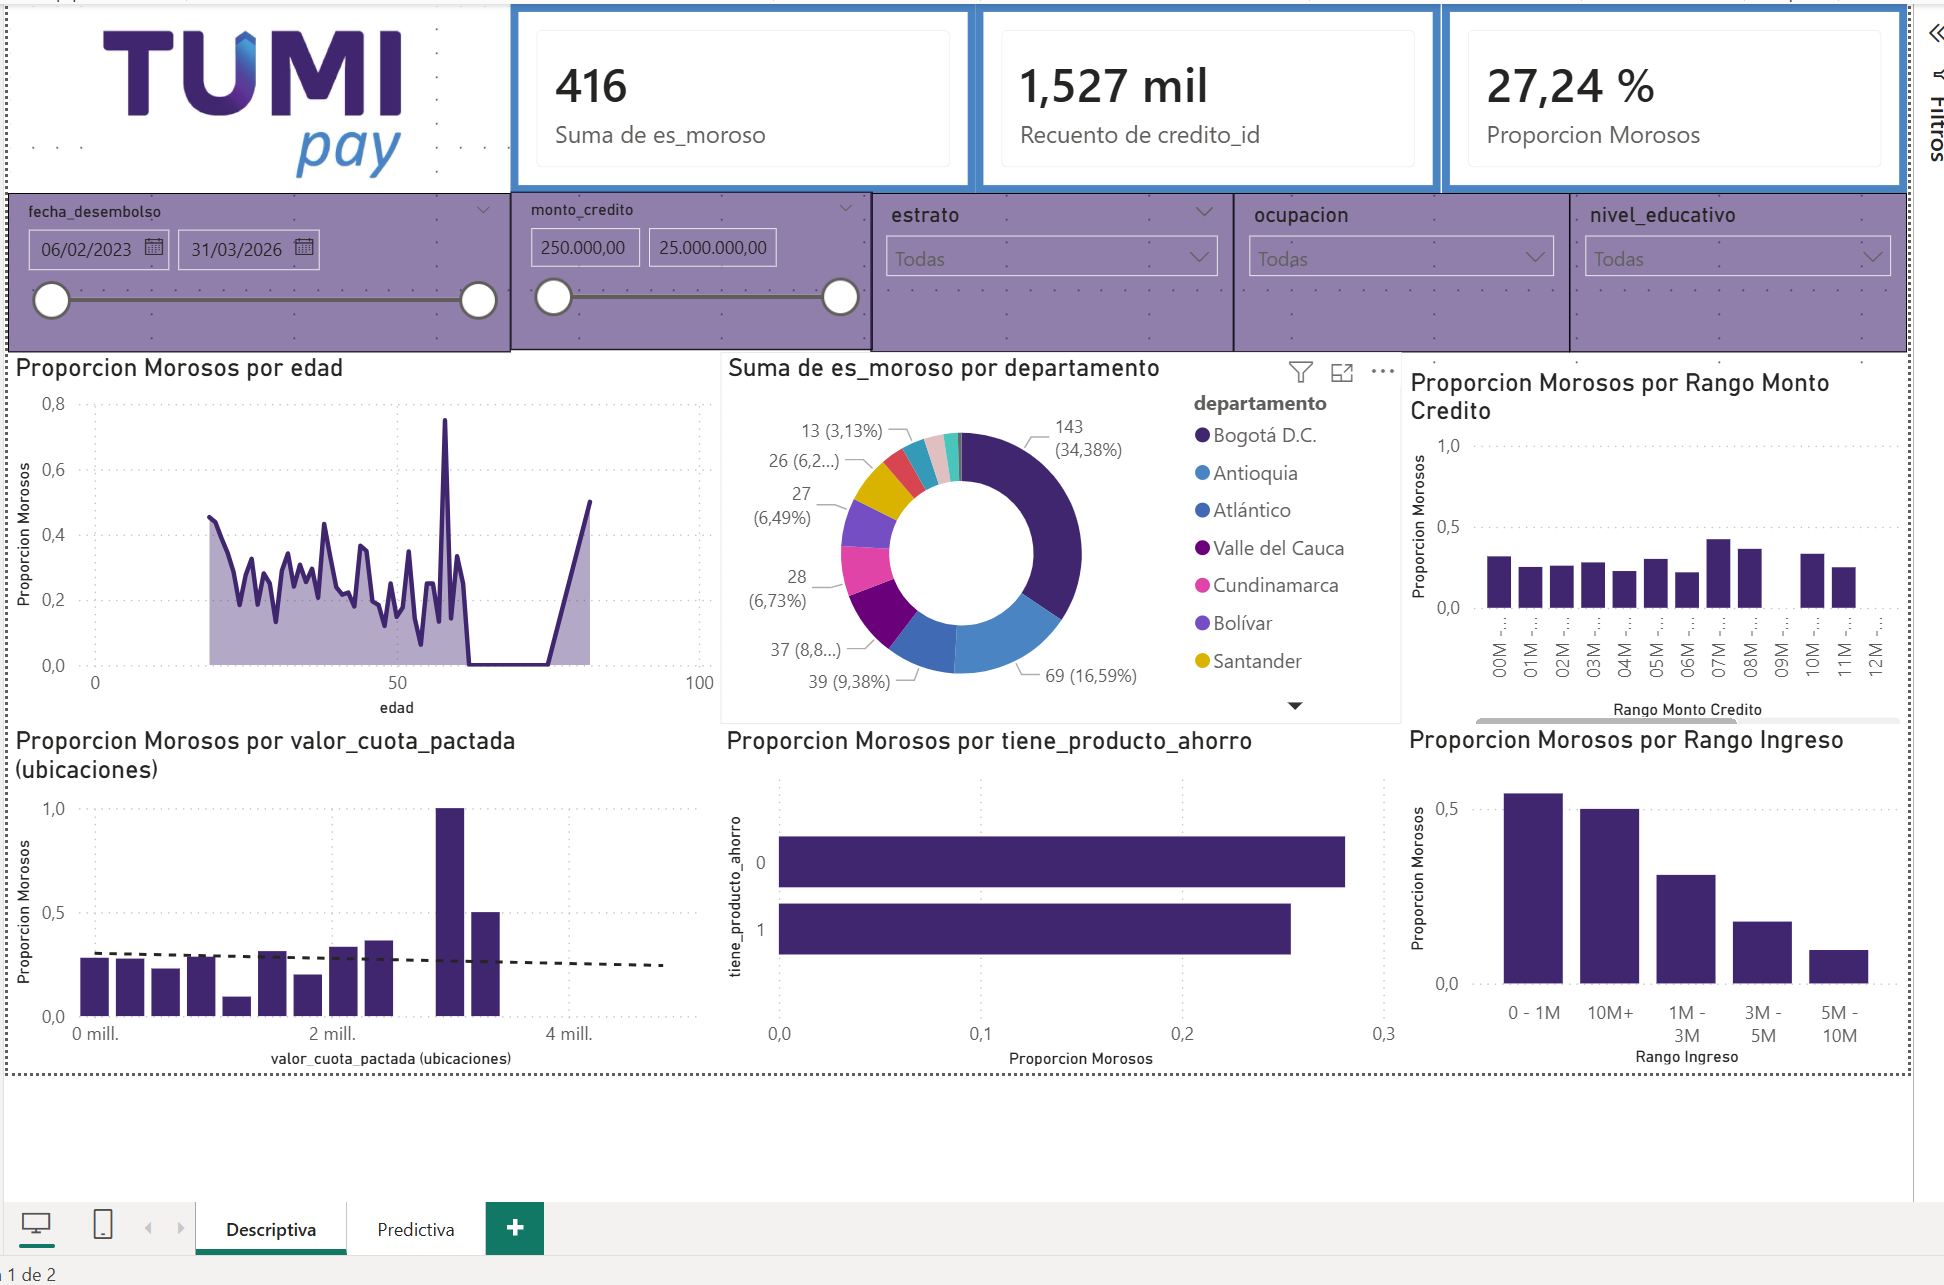

Layout of this report page (visuals, bound fields, positions):
{"tool":"powerbi","page":{"name":"Descriptiva","canvas":[1280,720],"ordinal":0},"visuals":[{"type":"image","box":[0,0,338.5,127.3],"z":0},{"type":"cardVisual","fields":{"Data":["Count(abt_analitica_riesgo.credito_id)"]},"box":[652.2,0,313.3,127.8],"z":1000},{"type":"cardVisual","fields":{"Data":["Sum(abt_analitica_riesgo.es_moroso)"]},"box":[338.5,0,313.3,127.3],"z":2000},{"type":"cardVisual","fields":{"Data":["abt_analitica_riesgo.Proporcion Morosos"]},"box":[966.1,0,313.3,127.3],"z":3000},{"type":"slicer","fields":{"Values":["abt_analitica_riesgo.estrato"]},"box":[581.1,127.3,244.5,107.1],"z":4000},{"type":"slicer","fields":{"Values":["abt_analitica_riesgo.ocupacion"]},"box":[825.6,127.3,226.4,107.1],"z":5000},{"type":"slicer","fields":{"Values":["abt_analitica_riesgo.nivel_educativo"]},"box":[1052,127.3,227.4,107.1],"z":6000},{"type":"areaChart","fields":{"Category":["abt_analitica_riesgo.edad"],"Y":["abt_analitica_riesgo.Proporcion Morosos"]},"box":[0,234.4,480,249.6],"z":7000},{"type":"donutChart","fields":{"Category":["abt_analitica_riesgo.departamento"],"Y":["Sum(abt_analitica_riesgo.es_moroso)"]},"box":[480,234.4,458.9,251.1],"z":8000},{"type":"clusteredColumnChart","fields":{"Category":["abt_analitica_riesgo.monto_credito (ubicaciones)"],"Y":["abt_analitica_riesgo.Proporcion Morosos"]},"box":[940.1,234.6,339.6,251.8],"z":9000},{"type":"clusteredColumnChart","fields":{"Y":["abt_analitica_riesgo.Proporcion Morosos"],"Category":["abt_analitica_riesgo.valor_cuota_pactada (ubicaciones)"]},"box":[0,486.1,480,234.4],"z":10000},{"type":"clusteredBarChart","fields":{"Y":["abt_analitica_riesgo.Proporcion Morosos"],"Category":["abt_analitica_riesgo.tiene_producto_ahorro"]},"box":[479,485.9,460.2,234.6],"z":11000},{"type":"columnChart","fields":{"Category":["abt_analitica_riesgo.Rango Ingreso"],"Y":["abt_analitica_riesgo.Proporcion Morosos"]},"box":[939.2,486.3,340.5,233.7],"z":12000},{"type":"slicer","fields":{"Values":["abt_analitica_riesgo.fecha_desembolso"]},"box":[0,127.3,338.5,107.1],"z":13000},{"type":"slicer","fields":{"Values":["abt_analitica_riesgo.monto_credito"]},"box":[339,126.8,244.1,106.7],"z":14000}]}

Visuals, with their boxes on the page's 1280x720 design canvas (x1, y1, x2, y2). These are canvas units, not pixel positions in the 1944x1285 screenshot, which may show the page scaled, cropped or inside an application window:
image: {"left": 0, "top": 0, "right": 338, "bottom": 127}
cardVisual - Count(abt_analitica_riesgo.credito_id): {"left": 652, "top": 0, "right": 966, "bottom": 128}
cardVisual - Sum(abt_analitica_riesgo.es_moroso): {"left": 338, "top": 0, "right": 652, "bottom": 127}
cardVisual - abt_analitica_riesgo.Proporcion Morosos: {"left": 966, "top": 0, "right": 1279, "bottom": 127}
slicer - abt_analitica_riesgo.estrato: {"left": 581, "top": 127, "right": 826, "bottom": 234}
slicer - abt_analitica_riesgo.ocupacion: {"left": 826, "top": 127, "right": 1052, "bottom": 234}
slicer - abt_analitica_riesgo.nivel_educativo: {"left": 1052, "top": 127, "right": 1279, "bottom": 234}
areaChart - abt_analitica_riesgo.edad x abt_analitica_riesgo.Proporcion Morosos: {"left": 0, "top": 234, "right": 480, "bottom": 484}
donutChart - abt_analitica_riesgo.departamento x Sum(abt_analitica_riesgo.es_moroso): {"left": 480, "top": 234, "right": 939, "bottom": 486}
clusteredColumnChart - abt_analitica_riesgo.monto_credito (ubicaciones) x abt_analitica_riesgo.Proporcion Morosos: {"left": 940, "top": 235, "right": 1280, "bottom": 486}
clusteredColumnChart - abt_analitica_riesgo.Proporcion Morosos x abt_analitica_riesgo.valor_cuota_pactada (ubicaciones): {"left": 0, "top": 486, "right": 480, "bottom": 720}
clusteredBarChart - abt_analitica_riesgo.Proporcion Morosos x abt_analitica_riesgo.tiene_producto_ahorro: {"left": 479, "top": 486, "right": 939, "bottom": 720}
columnChart - abt_analitica_riesgo.Rango Ingreso x abt_analitica_riesgo.Proporcion Morosos: {"left": 939, "top": 486, "right": 1280, "bottom": 720}
slicer - abt_analitica_riesgo.fecha_desembolso: {"left": 0, "top": 127, "right": 338, "bottom": 234}
slicer - abt_analitica_riesgo.monto_credito: {"left": 339, "top": 127, "right": 583, "bottom": 234}
